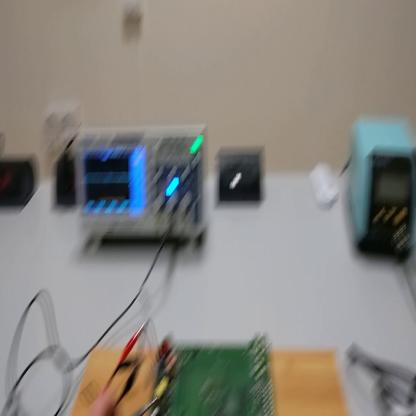hand: (88, 389, 119, 414)
low voltage board: (147, 316, 289, 416)
oscilloscope: (77, 126, 209, 254)
oscilloscope probe tip: (130, 389, 163, 416)
socket: (1, 158, 41, 212), (55, 156, 78, 208)
welder station: (344, 121, 415, 262)
working area: (70, 345, 354, 415)
